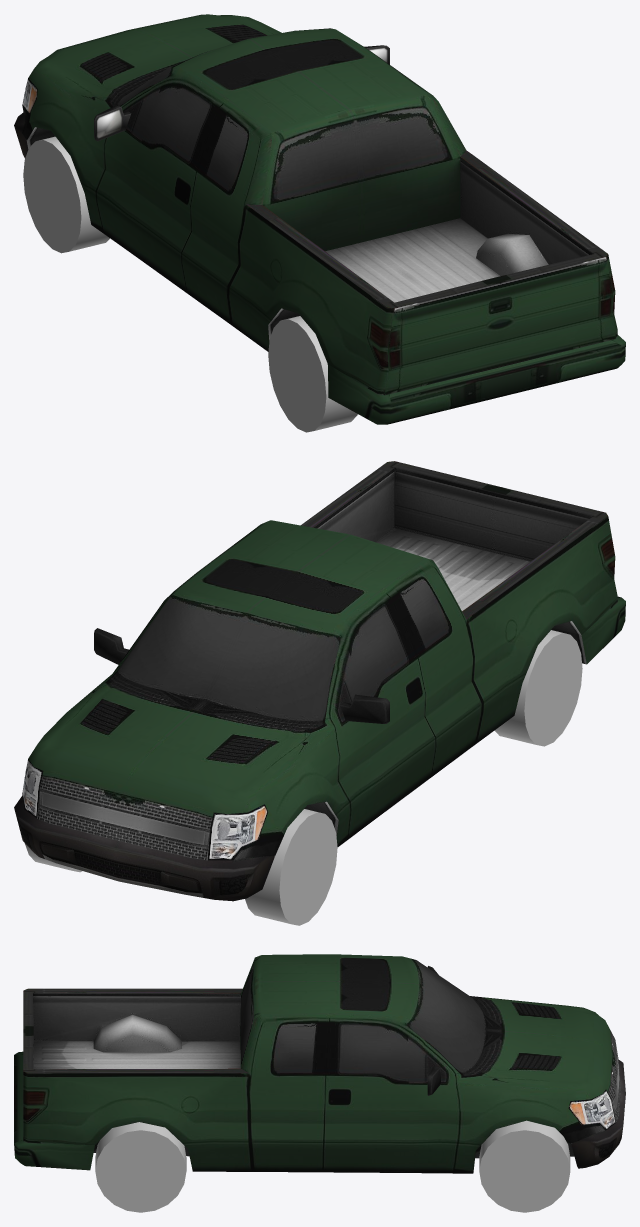
The model's file is militarypickup.dae.
3 views of the same model, one above another, from view 1: azimuth 30°, elevation 25°; view 2: azimuth 150°, elevation 25°; view 3: azimuth 270°, elevation 25° (orthographic). The views are drawn at different scales.
Parts seen in each view (by area): view 1: Truck; view 2: Truck; view 3: Truck.
Boxes of the visible parts, <box> form: Truck: <box>14,14,625,432</box>; Truck: <box>14,461,625,925</box>; Truck: <box>14,954,625,1212</box>.
Bounding box in the file's own units: 97.36 × 223 × 73.45.
